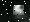person: (14, 7, 25, 19)
